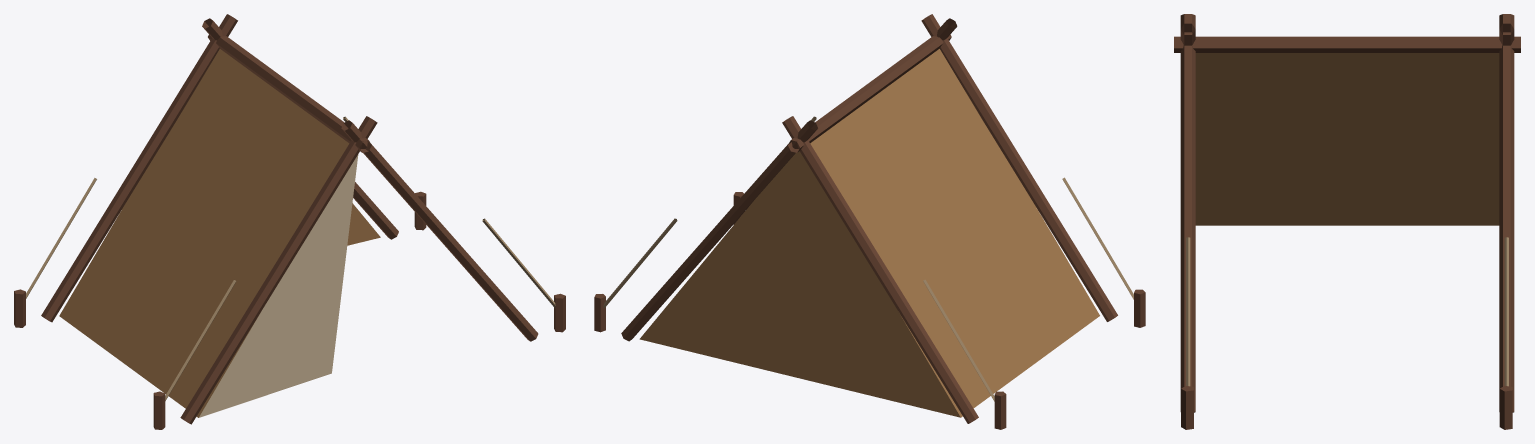
3 renders of one model, left to right at view 1: azimuth 30°, elevation 25°; view 2: azimuth 150°, elevation 25°; view 3: azimuth 270°, elevation 25°, orthographic. The views are drawn at different scales.
Parts seen in each view (by area): view 1: C04_单坡遮阳篷; view 2: C04_单坡遮阳篷; view 3: C04_单坡遮阳篷.
Boxes of the visible parts, left/top/right/bottom form: C04_单坡遮阳篷: left=14, top=14, right=565, bottom=429; C04_单坡遮阳篷: left=594, top=14, right=1145, bottom=429; C04_单坡遮阳篷: left=1174, top=14, right=1520, bottom=429.
Bounding box in the file's own units: 2.3 × 1.4 × 1.47.
